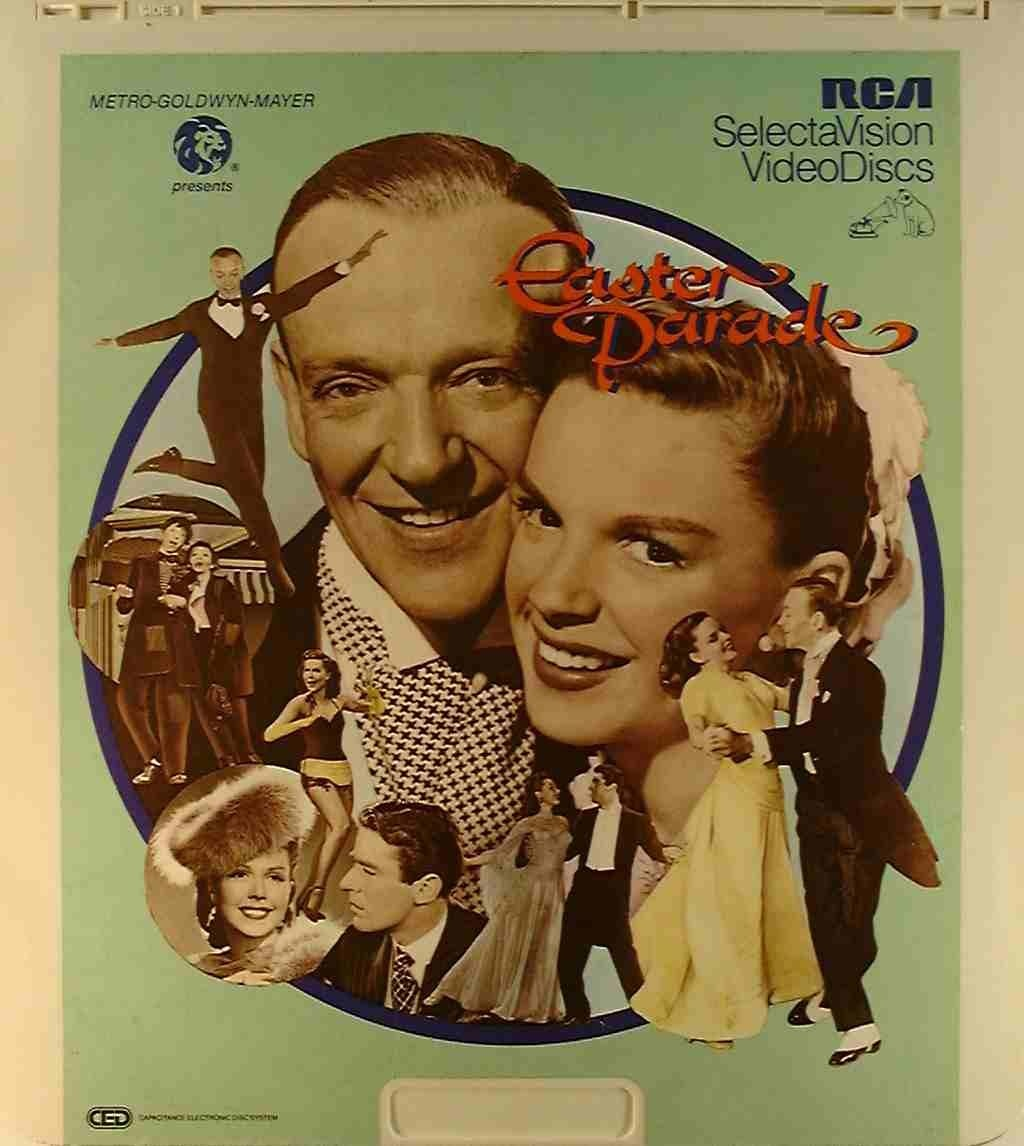human_face: (274, 259, 586, 621), (506, 404, 778, 744), (215, 840, 289, 936), (340, 838, 410, 932), (776, 590, 810, 648), (698, 618, 736, 660), (212, 257, 240, 293), (303, 660, 325, 690), (164, 522, 186, 550), (587, 774, 607, 802), (540, 779, 560, 805), (190, 546, 208, 572)
